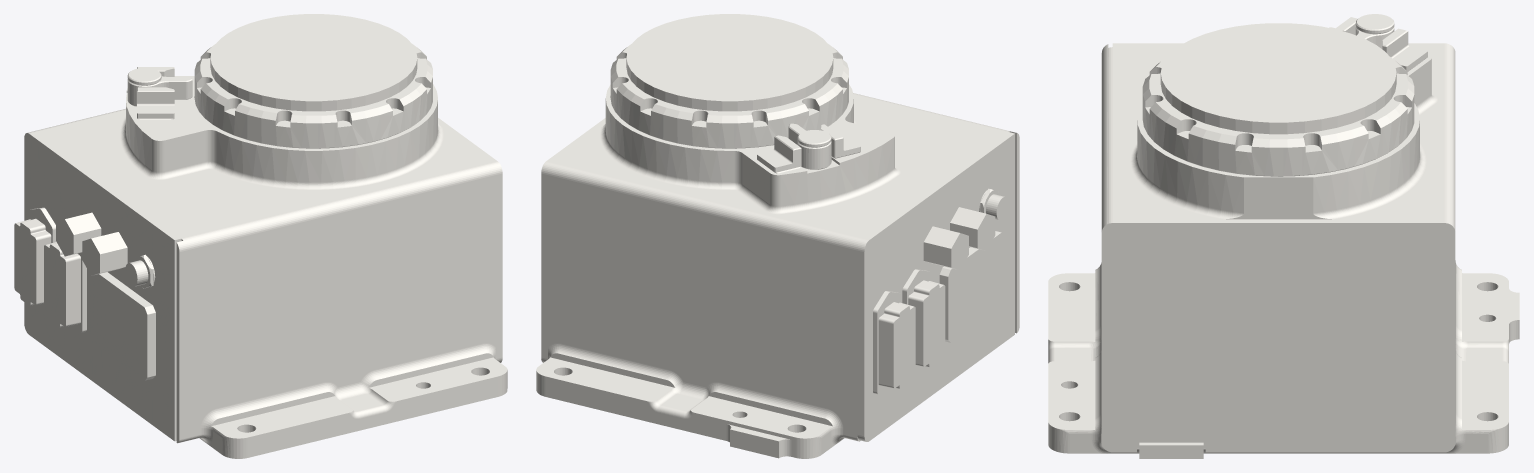
3 views of the same model, side by side, from view 1: azimuth 30°, elevation 25°; view 2: azimuth 150°, elevation 25°; view 3: azimuth 270°, elevation 25° (orthographic). The views are drawn at different scales.
Parts seen in each view (by area): view 1: Base_Link; view 2: Base_Link; view 3: Base_Link.
Part boxes in pixels (<box>): Base_Link: <box>14,14,507,458</box>; Base_Link: <box>536,14,1019,458</box>; Base_Link: <box>1048,14,1519,458</box>.
Bounding box in the file's own units: 0.2153 × 0.22 × 0.1675.
1 material, 1 textured.
